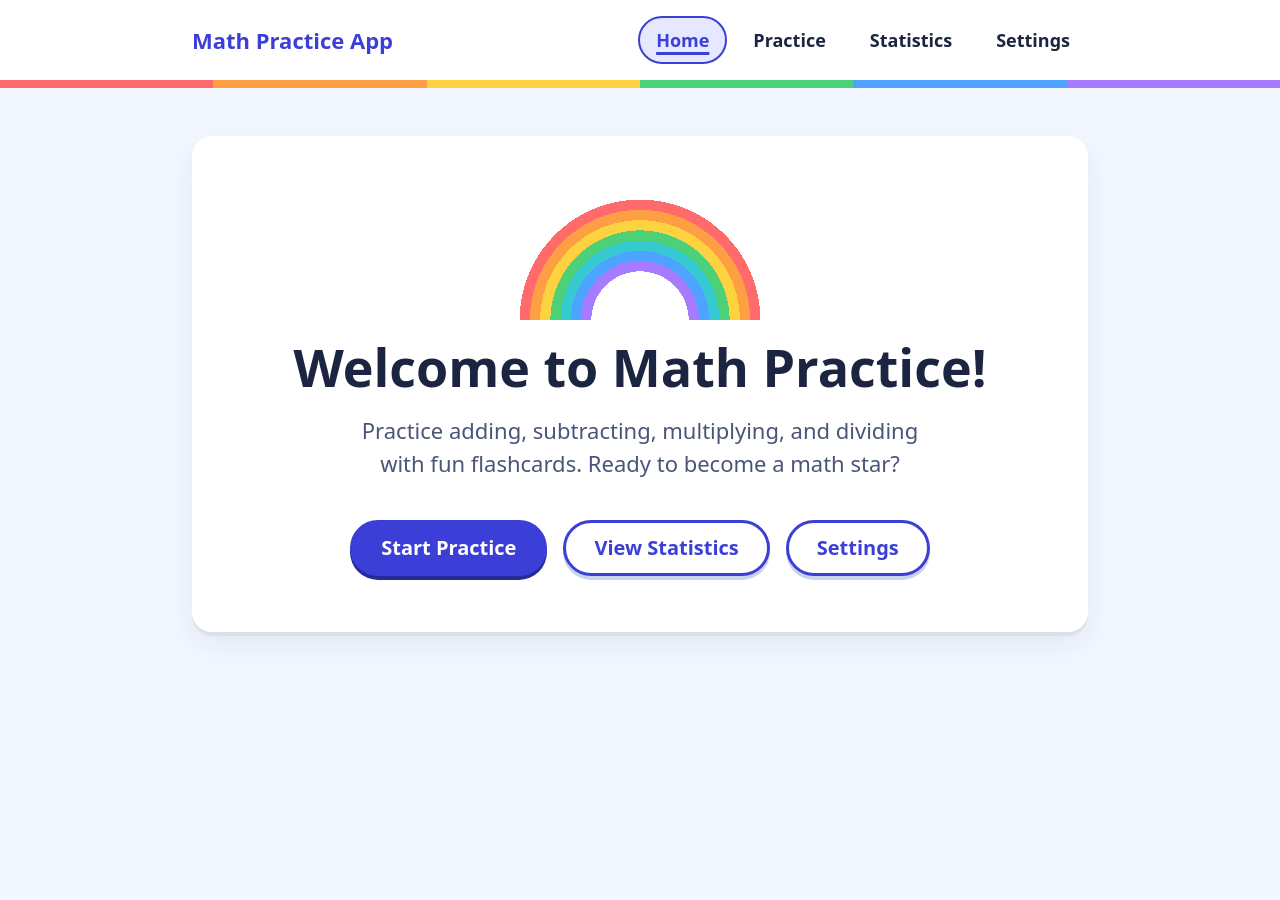
Test: HomePage › navigates to /settings when "Settings" is clicked
Click the link "Settings" next to "View Statistics": {"x": 858, "y": 548} top-left (786, 520), bottom-right (930, 576)
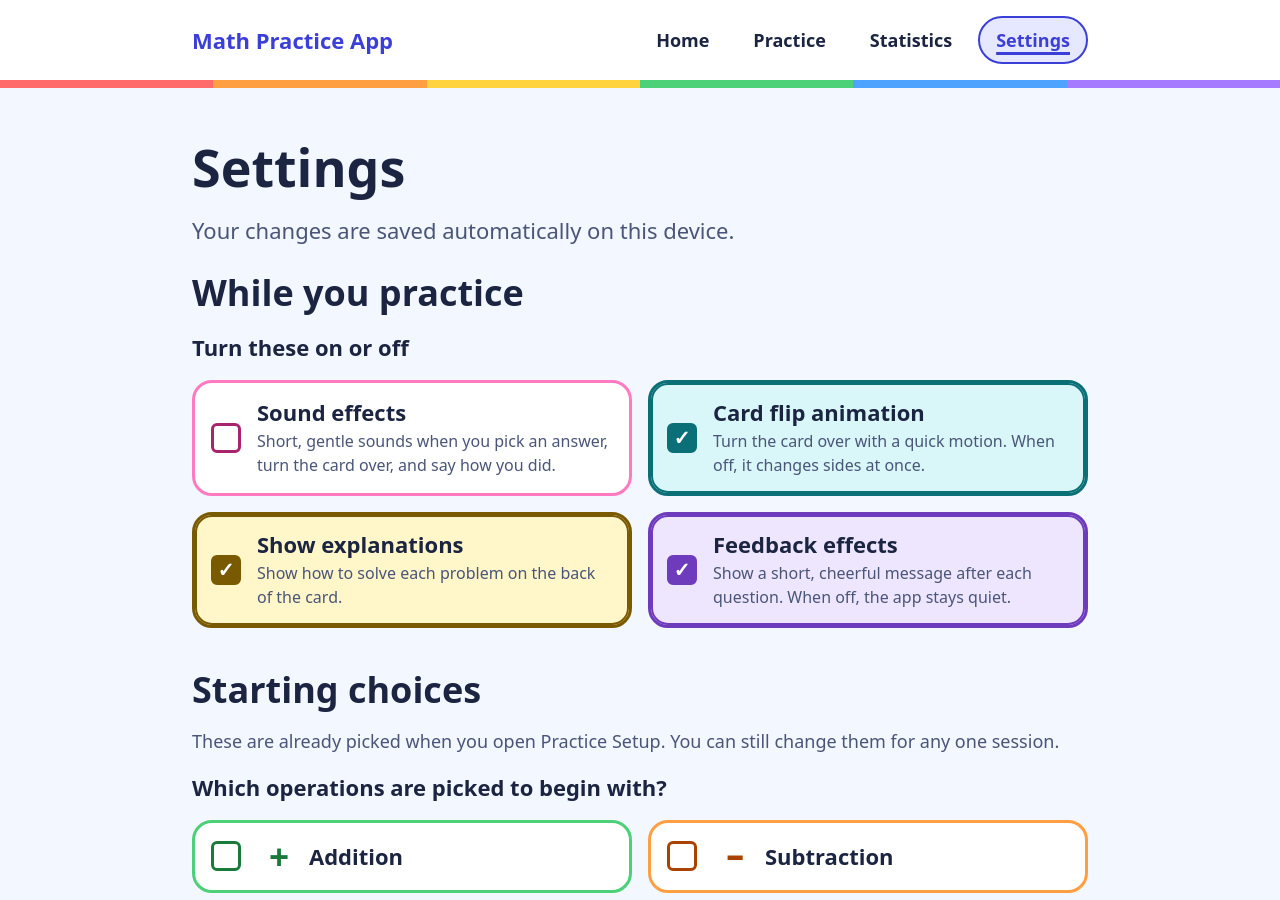
Now the heading "Settings" is shown, box top-left (192, 131), bottom-right (405, 202)
